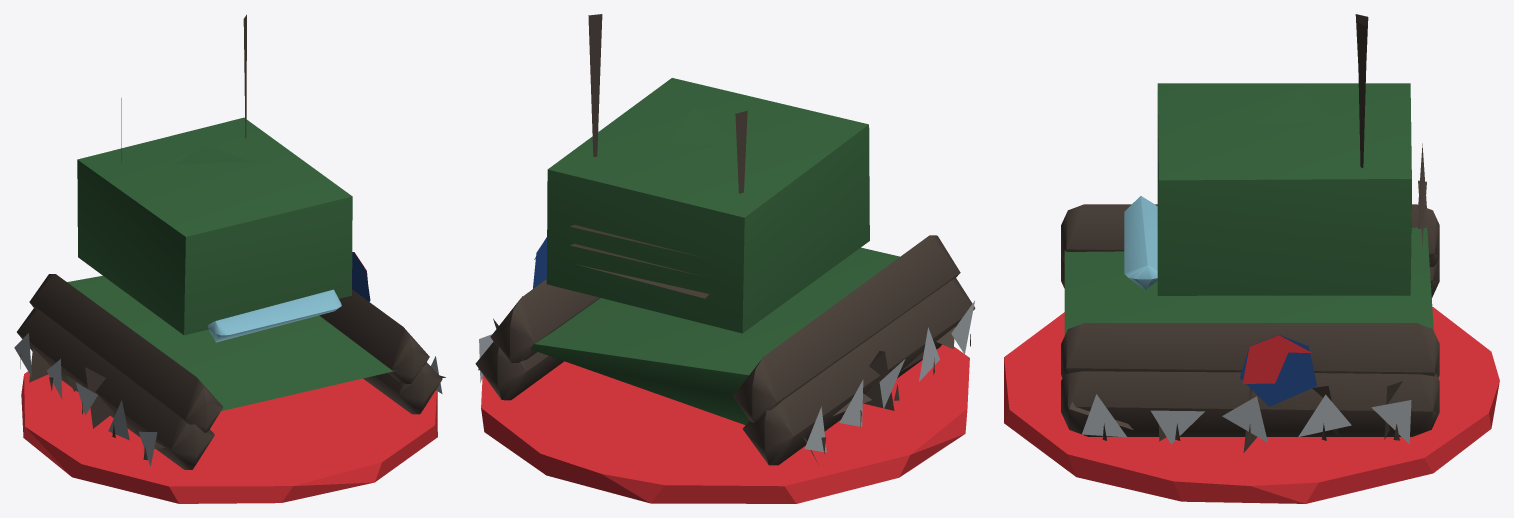
The model's file is south_korea_headquarters_lod1.glb.
3 renders of one model, left to right at view 1: azimuth 30°, elevation 25°; view 2: azimuth 150°, elevation 25°; view 3: azimuth 270°, elevation 25°, orthographic. The views are drawn at different scales.
Parts seen in each view (by area): view 1: body_hull, base_pedestal; view 2: body_hull, base_pedestal; view 3: body_hull, base_pedestal.
Part boxes in pixels (x1,y1,x2,y2): body_hull: [14, 14, 445, 469]; base_pedestal: [21, 371, 437, 503]; body_hull: [475, 14, 975, 465]; base_pedestal: [481, 344, 969, 503]; body_hull: [1061, 14, 1439, 452]; base_pedestal: [1004, 307, 1499, 503].
Bounding box in the file's own units: 0.7751 × 0.7101 × 0.7751.
